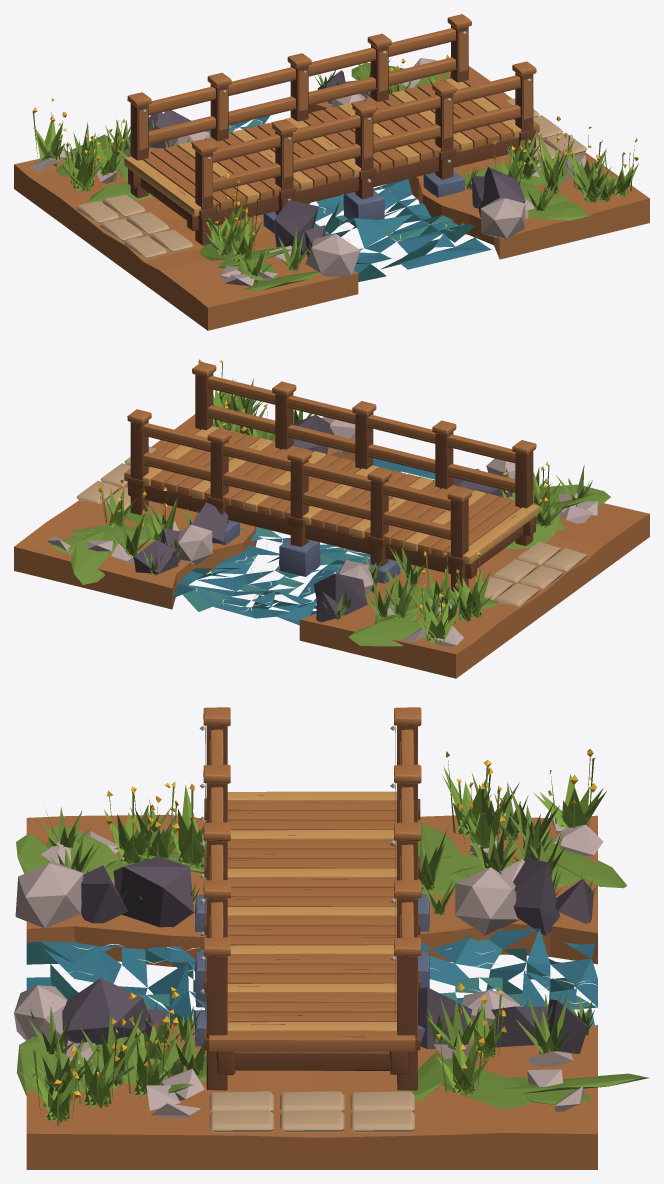
The picture shows the model from 3 angles, top to bottom: view 1: azimuth 30°, elevation 25°; view 2: azimuth 150°, elevation 25°; view 3: azimuth 270°, elevation 25°; orthographic projection. The views are drawn at different scales.
Parts seen in each view (by area): view 1: static_pal_woodWarm, static_pal_leatherShadow, static_pal_grass, static_pal_sidewalk, static_pal_polo, static_pal_foliage, static_pal_brass, static_pal_khakiLight, static_pal_asphalt, static_pal_denimLight, static_pal_tealDark, static_pal_schoolBusYellow (+1 smaller); view 2: static_pal_woodWarm, static_pal_leatherShadow, static_pal_grass, static_pal_polo, static_pal_asphalt, static_pal_brass, static_pal_sidewalk, static_pal_khakiLight, static_pal_foliage, static_pal_denimLight, static_pal_tealLight, static_pal_schoolBusYellow (+1 smaller); view 3: static_pal_woodWarm, static_pal_grass, static_pal_asphalt, static_pal_sidewalk, static_pal_foliage, static_pal_leatherShadow, static_pal_brass, static_pal_polo, static_pal_khakiLight, static_pal_tealDark, static_pal_schoolBusYellow, static_pal_denimLight (+1 smaller).
Boxes of the visible parts, bbox=[...] form: static_pal_woodWarm: bbox=[14, 14, 649, 330]; static_pal_leatherShadow: bbox=[128, 25, 536, 245]; static_pal_grass: bbox=[32, 51, 634, 290]; static_pal_sidewalk: bbox=[29, 58, 586, 286]; static_pal_polo: bbox=[205, 115, 491, 273]; static_pal_foliage: bbox=[35, 72, 638, 261]; static_pal_brass: bbox=[124, 78, 521, 216]; static_pal_khakiLight: bbox=[76, 98, 587, 259]; static_pal_asphalt: bbox=[148, 70, 525, 257]; static_pal_denimLight: bbox=[263, 171, 464, 233]; static_pal_tealDark: bbox=[230, 132, 474, 281]; static_pal_schoolBusYellow: bbox=[33, 54, 638, 237]; static_pal_woodWarm: bbox=[14, 362, 649, 678]; static_pal_leatherShadow: bbox=[127, 373, 535, 591]; static_pal_grass: bbox=[50, 362, 610, 646]; static_pal_polo: bbox=[172, 458, 435, 625]; static_pal_asphalt: bbox=[133, 414, 512, 622]; static_pal_brass: bbox=[142, 426, 539, 564]; static_pal_sidewalk: bbox=[46, 417, 597, 646]; static_pal_khakiLight: bbox=[77, 446, 586, 606]; static_pal_foliage: bbox=[105, 378, 560, 644]; static_pal_denimLight: bbox=[216, 520, 400, 583]; static_pal_tealLight: bbox=[173, 527, 368, 611]; static_pal_schoolBusYellow: bbox=[98, 359, 548, 615]; static_pal_woodWarm: bbox=[26, 707, 597, 1169]; static_pal_grass: bbox=[16, 757, 648, 1125]; static_pal_asphalt: bbox=[62, 856, 593, 1053]; static_pal_sidewalk: bbox=[14, 813, 603, 1118]; static_pal_foliage: bbox=[28, 766, 606, 1122]; static_pal_leatherShadow: bbox=[204, 725, 420, 1090]; static_pal_brass: bbox=[227, 791, 396, 1031]; static_pal_polo: bbox=[26, 928, 597, 1026]; static_pal_khakiLight: bbox=[209, 1091, 414, 1132]; static_pal_tealDark: bbox=[26, 941, 574, 1023]; static_pal_schoolBusYellow: bbox=[32, 749, 596, 1098]; static_pal_denimLight: bbox=[195, 894, 429, 1046].
Size of the model in its own units: 7.93 by 2.39 by 6.68.
